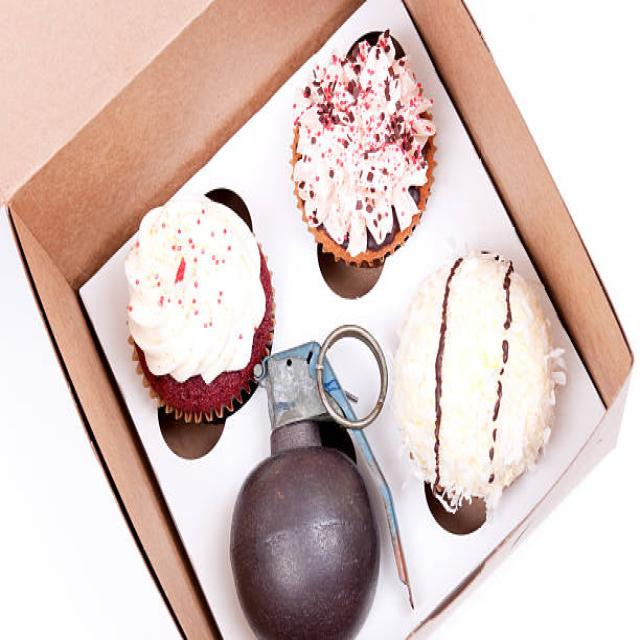grenade: (230, 321, 420, 640)
